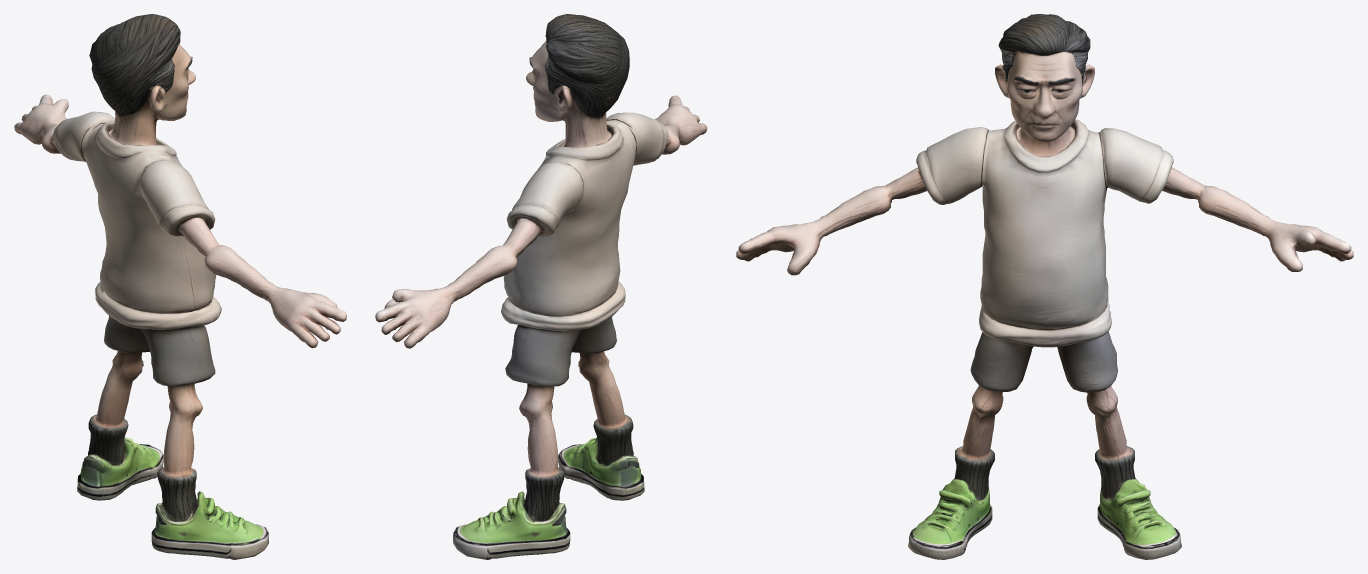
The picture shows the model from 3 angles, left to right: view 1: azimuth 30°, elevation 25°; view 2: azimuth 150°, elevation 25°; view 3: azimuth 270°, elevation 25°; orthographic projection.
Visible parts, largest first — view 1: tripo_node_e52ea4ad; view 2: tripo_node_e52ea4ad; view 3: tripo_node_e52ea4ad.
Boxes of the visible parts, x1,y1,x2,y2 form: tripo_node_e52ea4ad: [14, 14, 346, 559]; tripo_node_e52ea4ad: [375, 14, 707, 559]; tripo_node_e52ea4ad: [736, 14, 1353, 559].
Size of the model in its own units: 22.11 by 91.19 by 100.
1 material, 1 textured.
